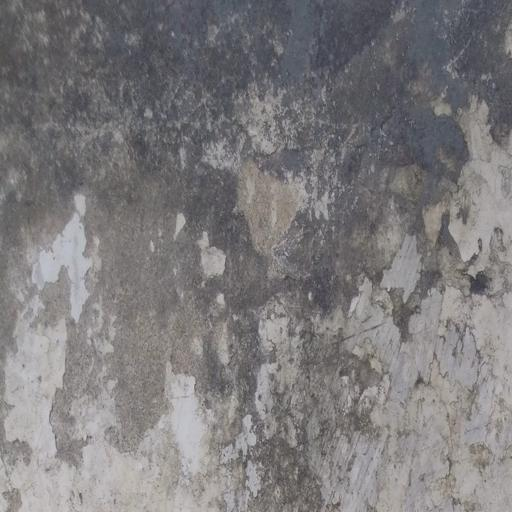stain: (8, 0, 512, 512)
